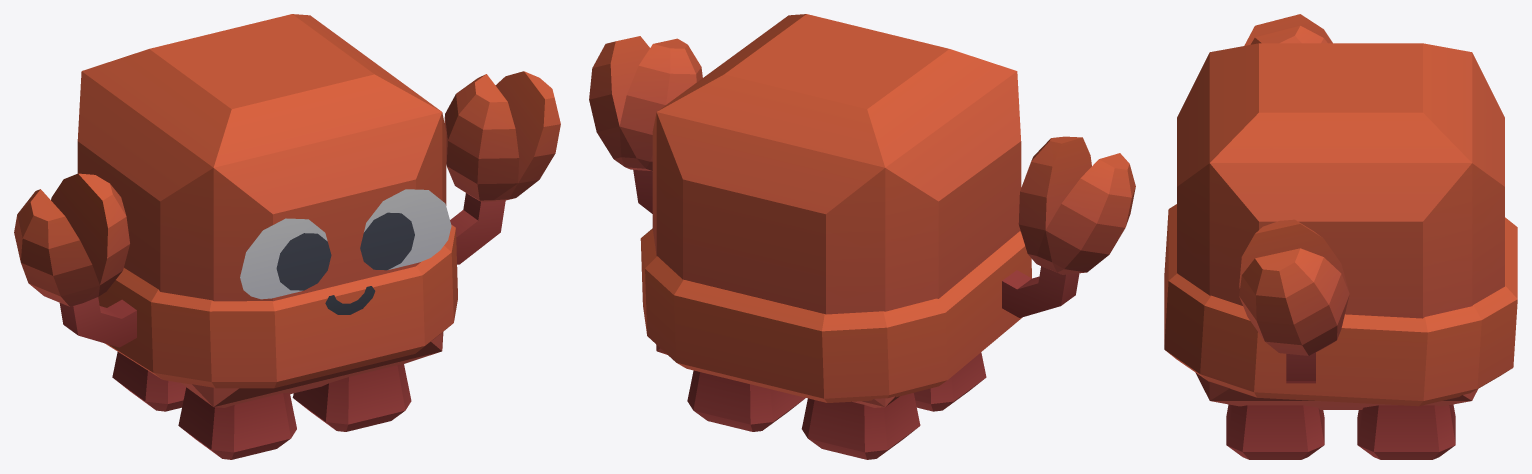
File: animal-crab.glb
The picture shows the model from 3 angles, left to right: view 1: azimuth 30°, elevation 25°; view 2: azimuth 150°, elevation 25°; view 3: azimuth 270°, elevation 25°; orthographic projection.
Parts seen in each view (by area): view 1: geometry_0; view 2: geometry_0; view 3: geometry_0.
Part boxes in pixels (x1,y1,x2,y2): geometry_0: (14, 14, 560, 459); geometry_0: (589, 14, 1135, 459); geometry_0: (1164, 14, 1517, 459).
Size of the model in its own units: 1 by 0.6128 by 0.5768.
